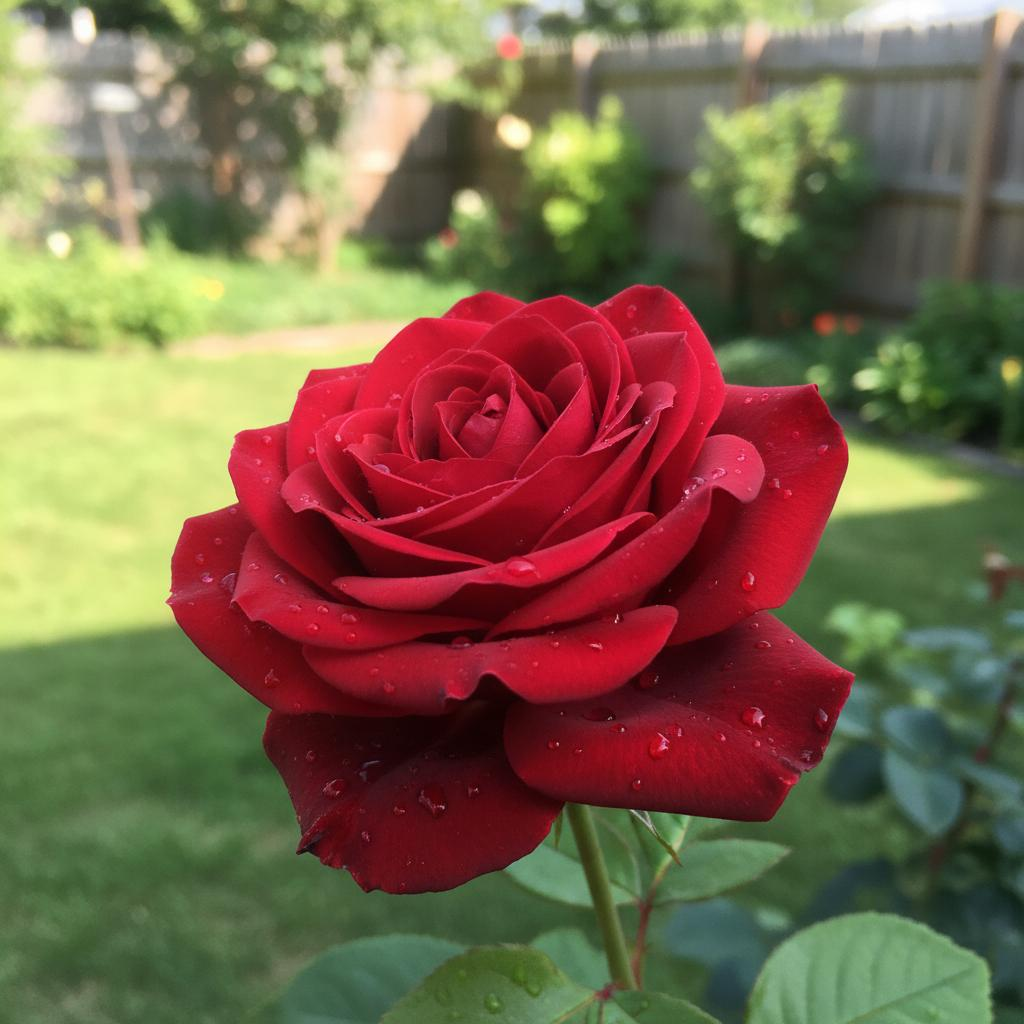rose: (165, 280, 856, 896)
